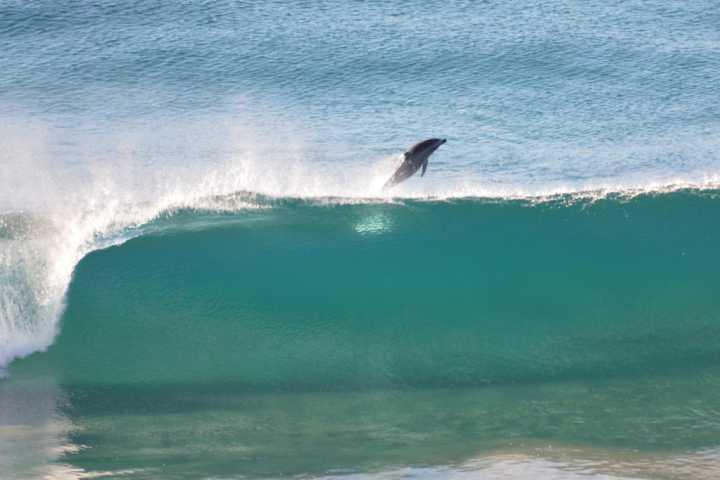fish: (381, 137, 448, 188)
